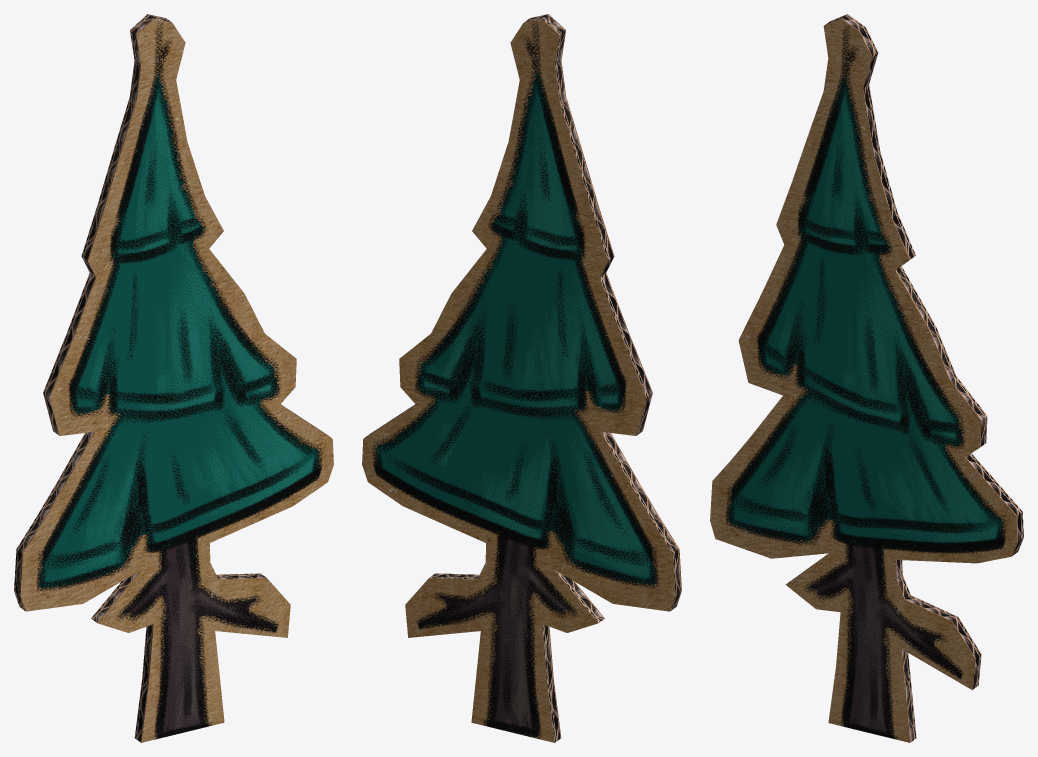
File: Tree03.fbx
The picture shows the model from 3 angles, left to right: view 1: azimuth 30°, elevation 25°; view 2: azimuth 150°, elevation 25°; view 3: azimuth 330°, elevation 25°; orthographic projection.
Parts seen in each view (by area): view 1: Plane; view 2: Plane; view 3: Plane.
Boxes of the visible parts, x1=… form: Plane: x1=14, y1=14, x2=333, y2=742; Plane: x1=362, y1=14, x2=681, y2=742; Plane: x1=710, y1=14, x2=1023, y2=742.
Bounding box in the file's own units: 182 × 399 × 6.63.
